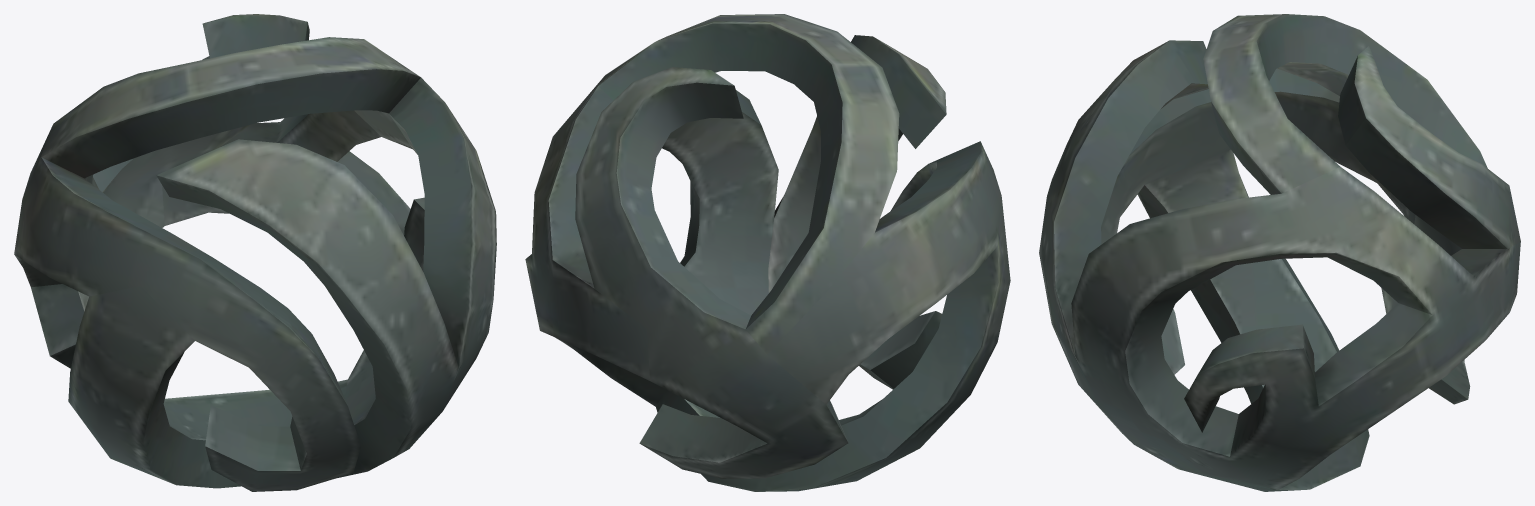
3 renders of one model, left to right at view 1: azimuth 30°, elevation 25°; view 2: azimuth 150°, elevation 25°; view 3: azimuth 270°, elevation 25°, orthographic.
Bounding box in the file's own units: 0.7391 × 0.7445 × 0.7477.
Materials: 1 (1 with a texture image).
